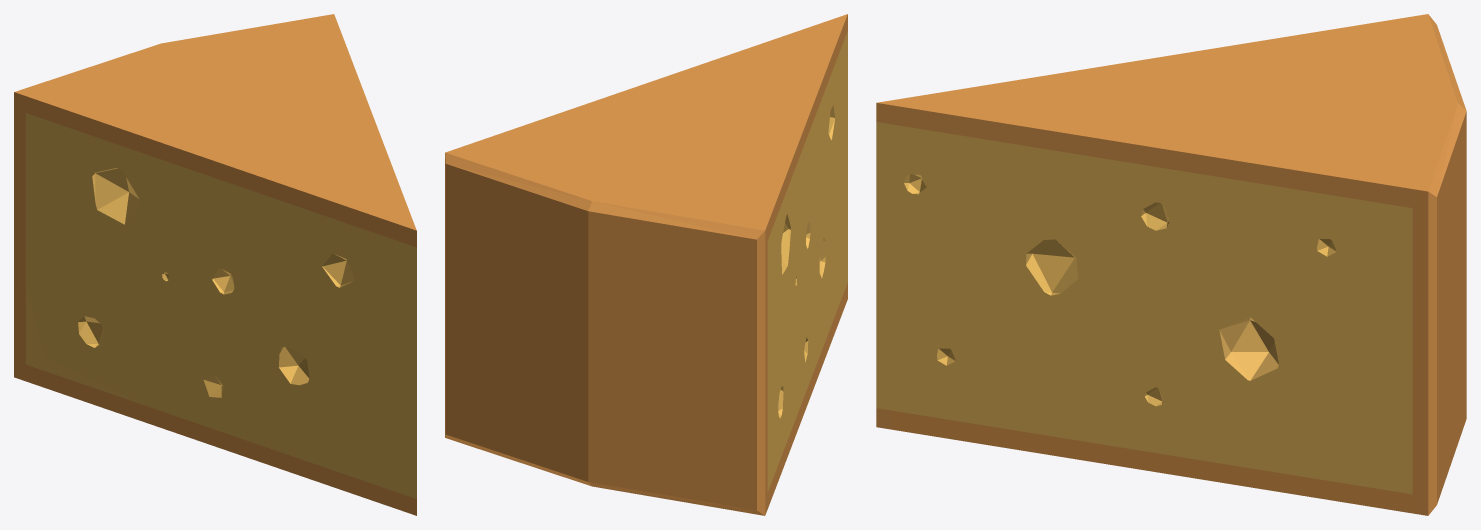
File: Cheese.fbx
The picture shows the model from 3 angles, left to right: view 1: azimuth 30°, elevation 25°; view 2: azimuth 150°, elevation 25°; view 3: azimuth 270°, elevation 25°; orthographic projection. The views are drawn at different scales.
Parts seen in each view (by area): view 1: Cheese; view 2: Cheese; view 3: Cheese.
Boxes of the visible parts, <box> form: Cheese: <box>14,14,416,515</box>; Cheese: <box>445,14,847,515</box>; Cheese: <box>876,14,1466,515</box>.
Bounding box in the file's own units: 18.54 × 15.79 × 26.04.
